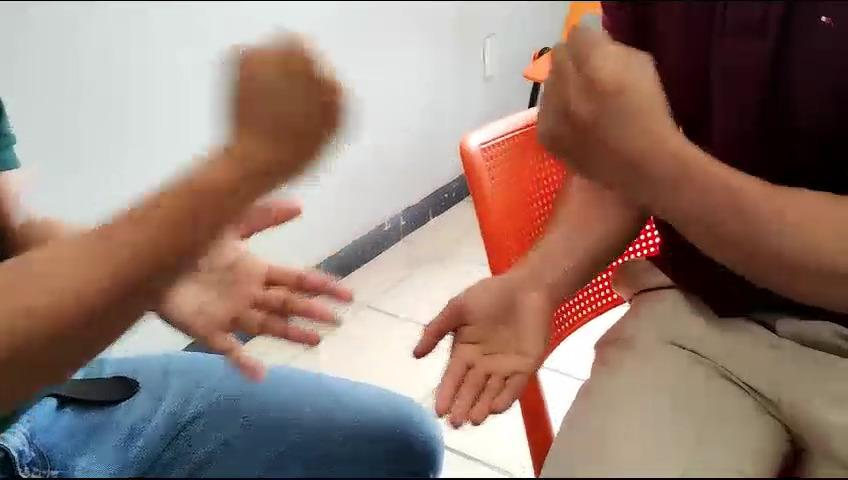Paper: (374, 267, 591, 456)
Stone: (491, 12, 703, 216), (171, 47, 408, 191)
